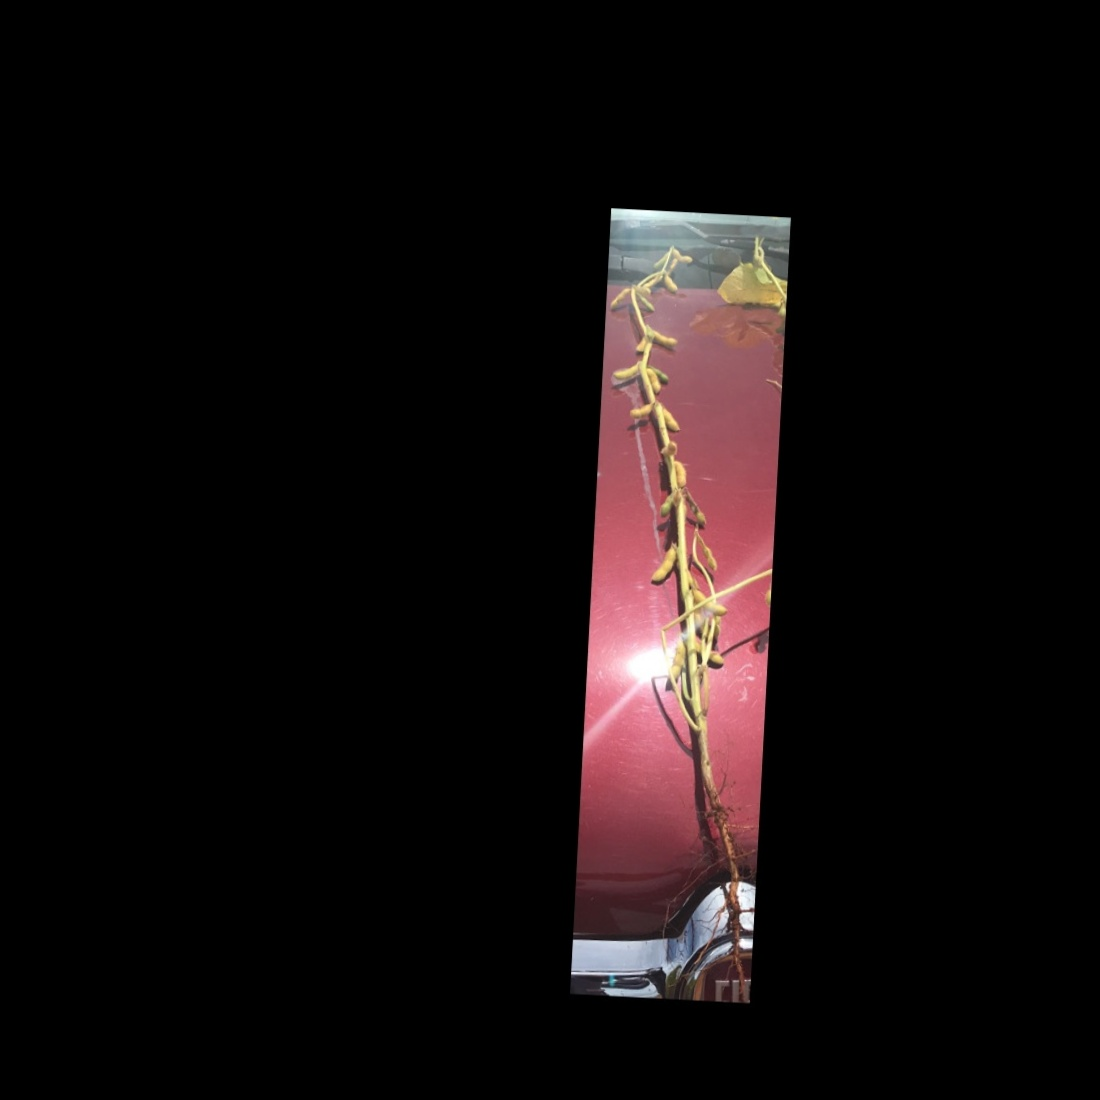pod: (647, 539, 678, 588), (695, 533, 723, 573), (692, 588, 729, 618), (666, 640, 687, 686), (606, 281, 631, 313), (662, 403, 685, 434), (611, 359, 640, 382), (624, 400, 653, 421), (669, 246, 697, 265), (650, 328, 681, 346), (636, 293, 658, 315), (660, 271, 680, 295), (657, 492, 674, 519)
soy: (581, 234, 788, 937)
